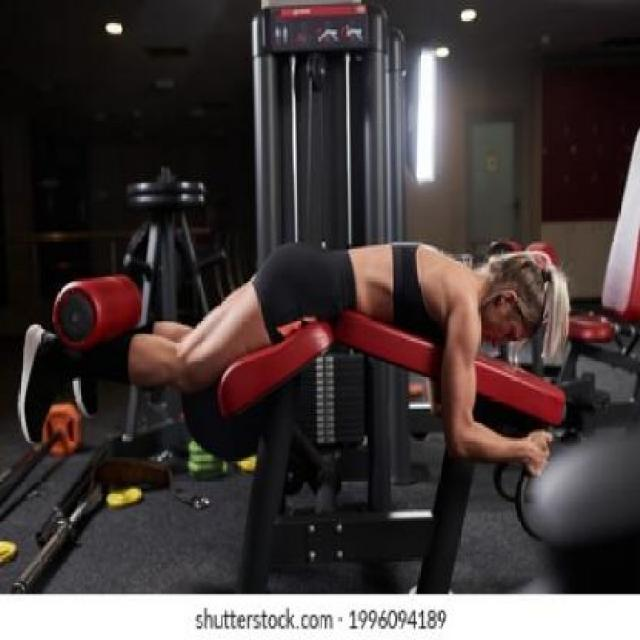reg curl machine: (16, 0, 569, 595)
